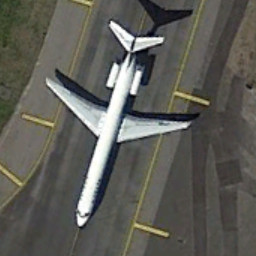Airplane: (37, 12, 201, 234)
